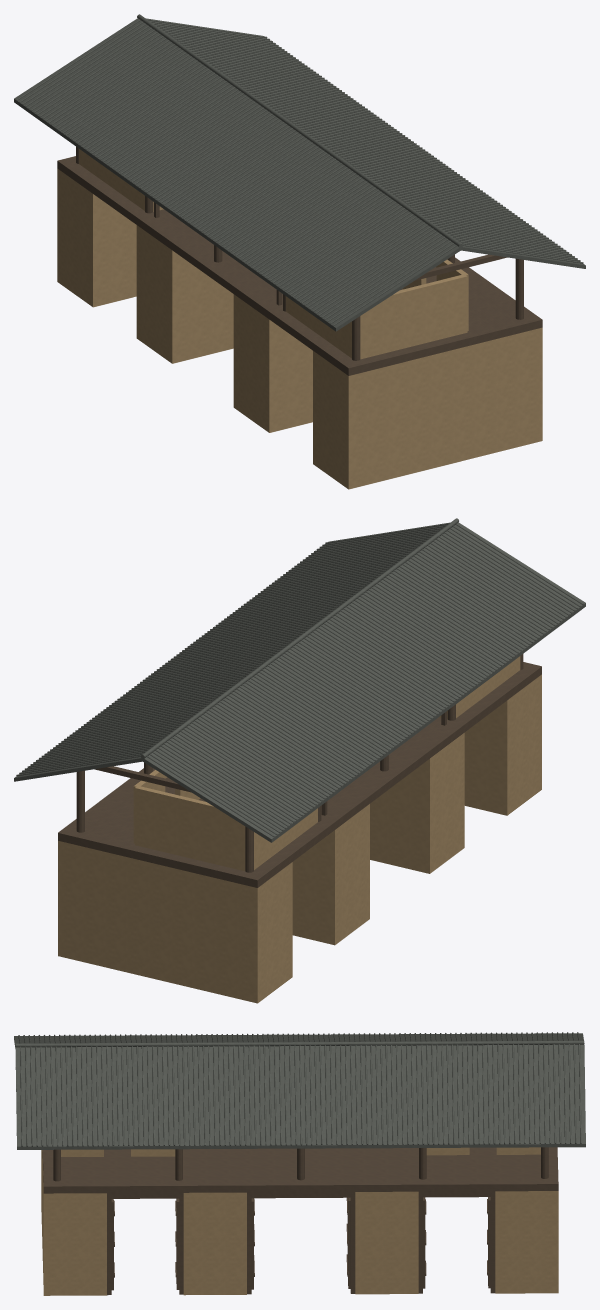
Rendered from yong-gate-body.placed-roundtrip.glb.
The picture shows the model from 3 angles, top to bottom: view 1: azimuth 30°, elevation 25°; view 2: azimuth 150°, elevation 25°; view 3: azimuth 270°, elevation 25°; orthographic projection. The views are drawn at different scales.
Parts seen in each view (by area): view 1: yong-Y-static_tile, yong-Y-static_earth, yong-Y-static_timber; view 2: yong-Y-static_tile, yong-Y-static_earth, yong-Y-static_timber; view 3: yong-Y-static_tile, yong-Y-static_earth, yong-Y-static_timber.
Part boxes in pixels (box(x1,y1,x2,y2)): yong-Y-static_tile: box(14, 14, 585, 331); yong-Y-static_earth: box(57, 149, 542, 489); yong-Y-static_timber: box(57, 147, 542, 375); yong-Y-static_tile: box(14, 518, 585, 842); yong-Y-static_earth: box(58, 656, 541, 1003); yong-Y-static_timber: box(58, 654, 541, 887); yong-Y-static_tile: box(14, 1032, 585, 1149); yong-Y-static_earth: box(41, 1147, 558, 1295); yong-Y-static_timber: box(42, 1147, 558, 1295).
Size of the model in its own units: 11.91 by 10.23 by 25.33.
3 materials, 3 textured.
